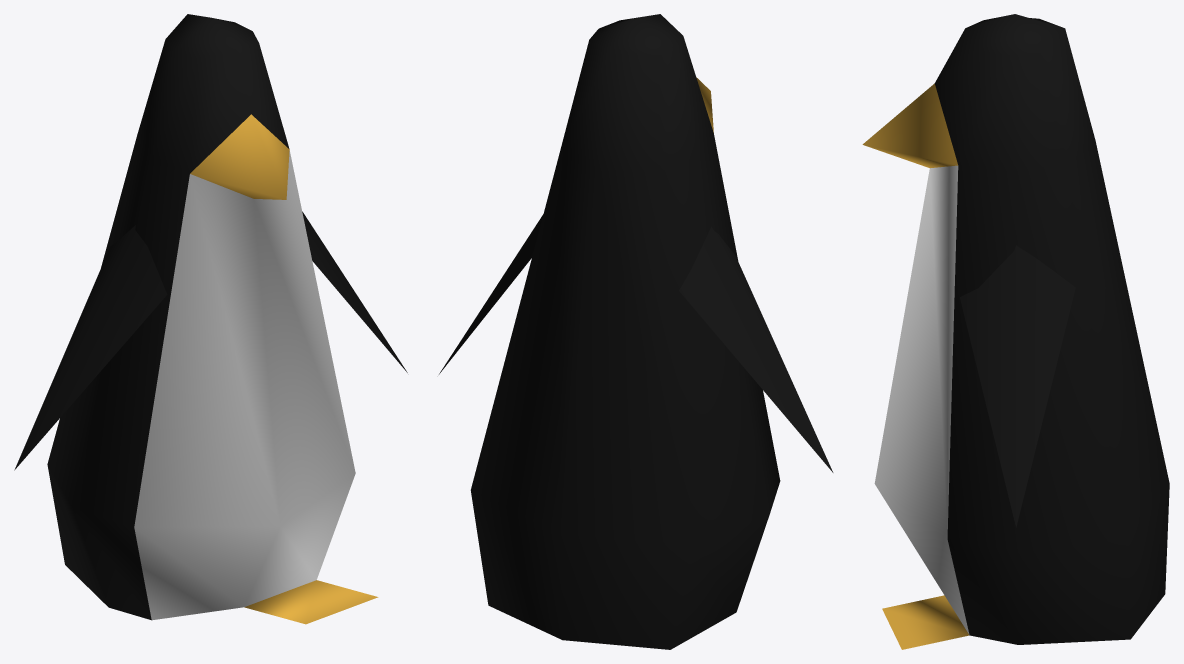
Rendered from penguin.gltf.
3 renders of one model, left to right at view 1: azimuth 30°, elevation 25°; view 2: azimuth 150°, elevation 25°; view 3: azimuth 270°, elevation 25°, orthographic. The views are drawn at different scales.
Parts seen in each view (by area): view 1: penguin; view 2: penguin; view 3: penguin.
Boxes of the visible parts, box(x1,y1,x2,y2) form: penguin: box(14, 14, 407, 624); penguin: box(439, 14, 833, 649); penguin: box(862, 14, 1169, 649).
Size of the model in its own units: 88.78 by 122 by 58.42.
